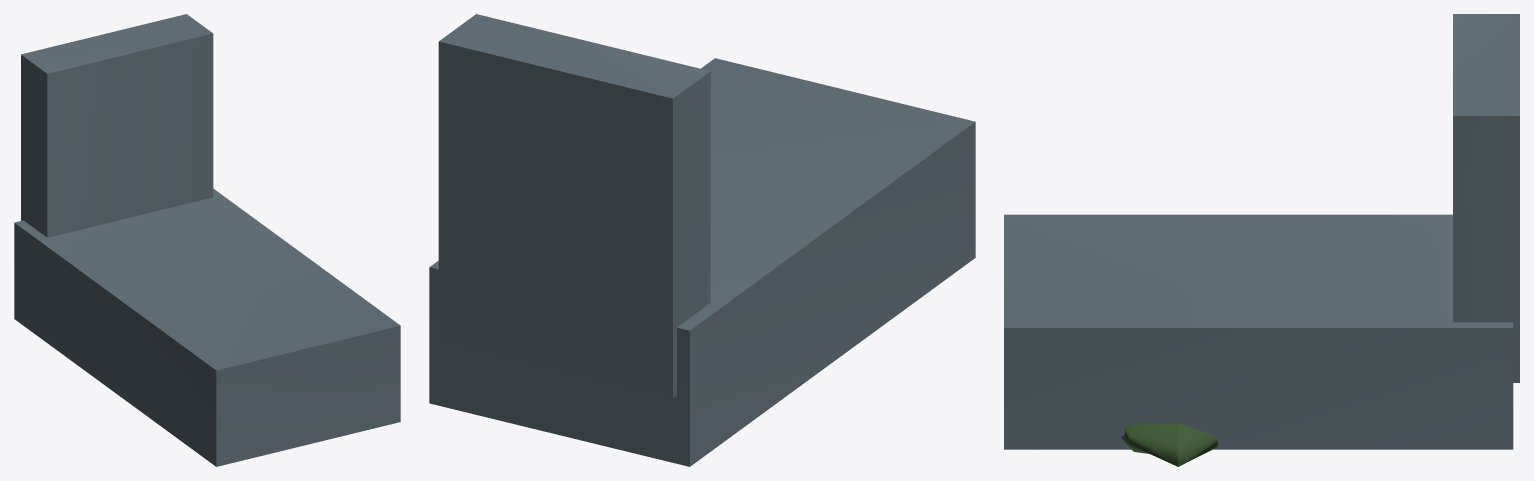
File: lapide_c.glb
3 renders of one model, left to right at view 1: azimuth 30°, elevation 25°; view 2: azimuth 150°, elevation 25°; view 3: azimuth 270°, elevation 25°, orthographic. The views are drawn at different scales.
Visible parts, largest first — view 1: Prop; view 2: Prop; view 3: Prop.
Boxes of the visible parts, <box> form: Prop: <box>14,14,400,466</box>; Prop: <box>429,14,975,466</box>; Prop: <box>1004,14,1519,466</box>.
Size of the model in its own units: 1.26 by 1.38 by 1.93.
